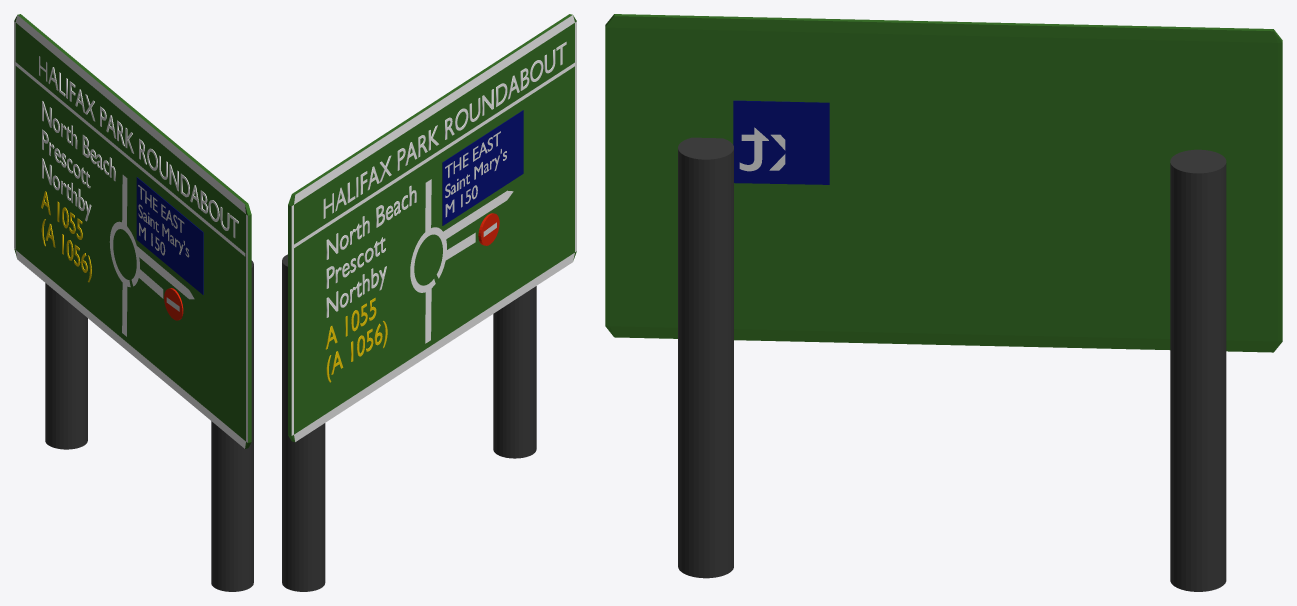
The model's file is RoundaboutSignHalifaxPark2.fbx.
3 views of the same model, side by side, from view 1: azimuth 30°, elevation 25°; view 2: azimuth 150°, elevation 25°; view 3: azimuth 270°, elevation 25° (orthographic). The views are drawn at different scales.
Visible parts, largest first — view 1: Cube.030, Cylinder.001, Cylinder.002, Cube.001, STMRoundabout, STMRoundabout.001, STMRoundabout.002, DashedLine, Text.001, RightArrowM, RoundelM, Cylinder; view 2: Cube.030, Cylinder.002, Cylinder.001, Cube.001, STMRoundabout, STMRoundabout.001, DashedLine, STMRoundabout.002, Text.001, RightArrowM, RoundelM, Cylinder; view 3: Cube.030, Cylinder.002, Cylinder.001, Cube.001.
Boxes of the visible parts, box(x1,y1,x2,y2) form: Cube.030: box(14, 14, 251, 448); Cylinder.001: box(211, 260, 253, 591); Cylinder.002: box(45, 283, 87, 449); Cube.001: box(136, 177, 203, 294); STMRoundabout: box(39, 56, 238, 237); STMRoundabout.001: box(42, 101, 115, 221); STMRoundabout.002: box(41, 191, 91, 282); DashedLine: box(14, 61, 245, 256); Text.001: box(138, 185, 189, 257); RightArrowM: box(135, 245, 194, 299); RoundelM: box(109, 221, 139, 287); Cylinder: box(164, 288, 183, 320); Cube.030: box(288, 14, 576, 442); Cylinder.002: box(282, 254, 325, 591); Cylinder.001: box(493, 286, 536, 458); Cube.001: box(442, 110, 523, 225); STMRoundabout: box(323, 41, 566, 218); STMRoundabout.001: box(326, 185, 416, 317); DashedLine: box(294, 62, 575, 247); STMRoundabout.002: box(325, 297, 387, 382); Text.001: box(445, 131, 506, 217); RightArrowM: box(441, 190, 513, 241); RoundelM: box(410, 227, 446, 292); Cylinder: box(478, 213, 499, 245); Cube.030: box(605, 14, 1282, 352); Cylinder.002: box(1170, 149, 1226, 591); Cylinder.001: box(678, 137, 733, 578); Cube.001: box(733, 100, 829, 184).
Bounding box in the file's own units: 109 × 670 × 765.
